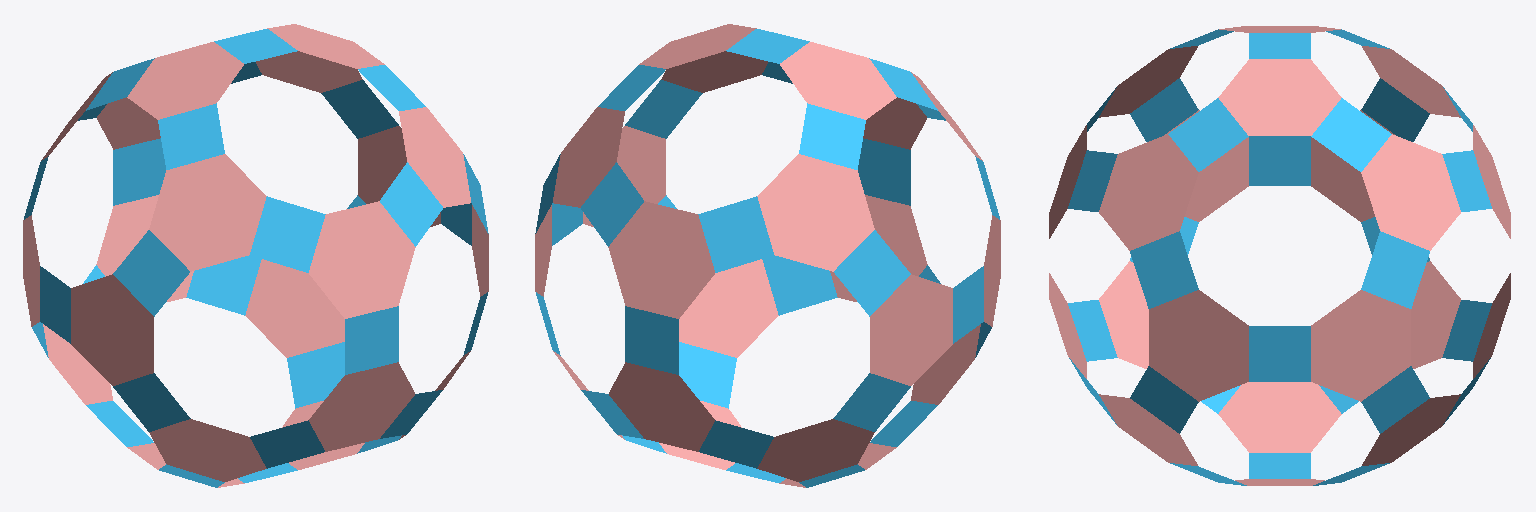
File: TruncatedIcosidodecahedronA.obj
The picture shows the model from 3 angles: view 1: azimuth 30°, elevation 25°; view 2: azimuth 150°, elevation 25°; view 3: azimuth 270°, elevation 25°; orthographic projection.
Size of the model in its own units: 7.47 by 7.47 by 7.47.